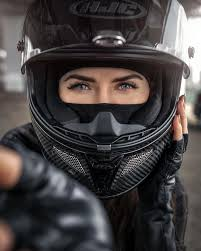com_capacete: (14, 1, 201, 197)
